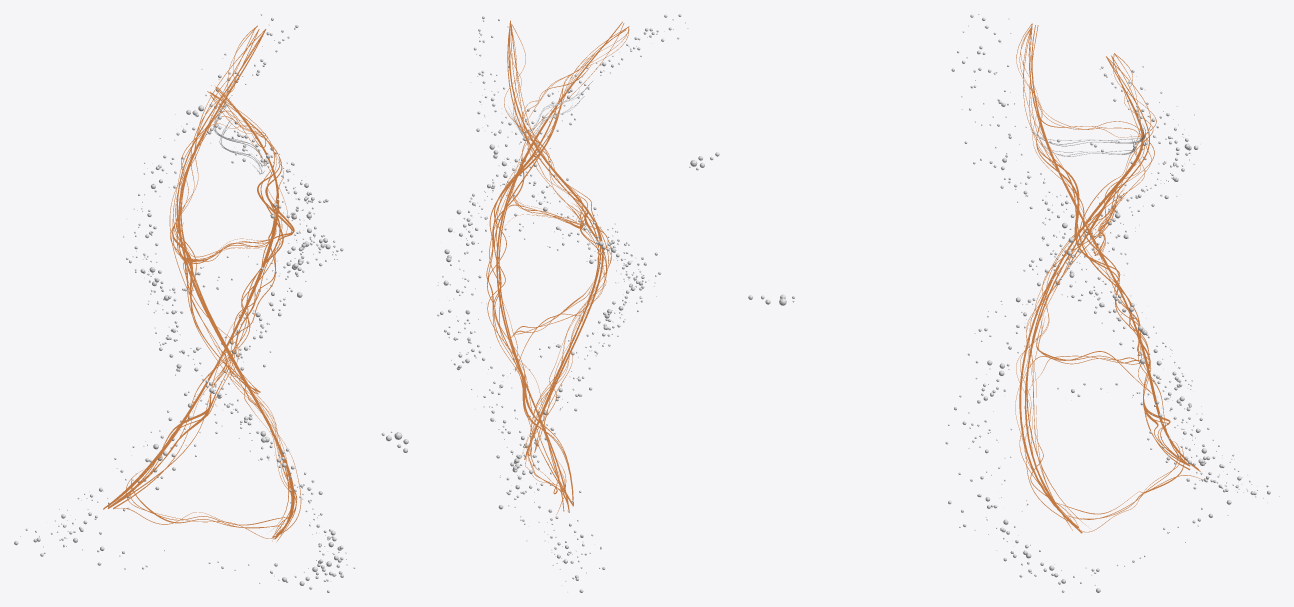
Rendered from DNA_7glb.glb.
3 renders of one model, left to right at view 1: azimuth 30°, elevation 25°; view 2: azimuth 150°, elevation 25°; view 3: azimuth 270°, elevation 25°, orthographic. The views are drawn at different scales.
Parts seen in each view (by area): view 1: NurbsPath.014; view 2: NurbsPath.014; view 3: NurbsPath.014.
Part boxes in pixels (bbox=[...]): NurbsPath.014: bbox=[103, 25, 301, 542]; NurbsPath.014: bbox=[486, 20, 629, 514]; NurbsPath.014: bbox=[1015, 23, 1201, 533].
Bounding box in the file's own units: 8.53 × 19.8 × 17.96.
